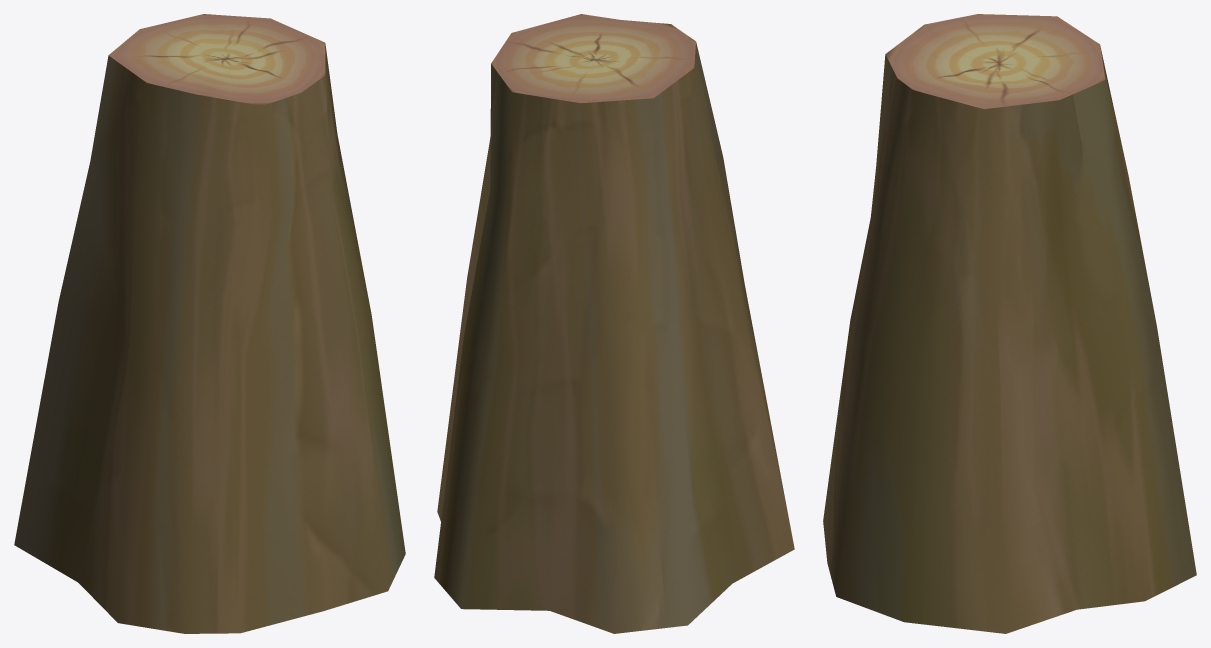
Rendered from m_env_collect_tree_cedar_stump_02.fbx.
3 views of the same model, side by side, from view 1: azimuth 30°, elevation 25°; view 2: azimuth 150°, elevation 25°; view 3: azimuth 270°, elevation 25° (orthographic).
Parts seen in each view (by area): view 1: m_env_collect_tree_cedar_stump_02; view 2: m_env_collect_tree_cedar_stump_02; view 3: m_env_collect_tree_cedar_stump_02.
Boxes of the visible parts, x1,y1,x2,y2 form: m_env_collect_tree_cedar_stump_02: (14, 14, 405, 633); m_env_collect_tree_cedar_stump_02: (434, 14, 794, 633); m_env_collect_tree_cedar_stump_02: (823, 14, 1196, 633).
Size of the model in its own units: 60.21 by 92.44 by 62.47.
